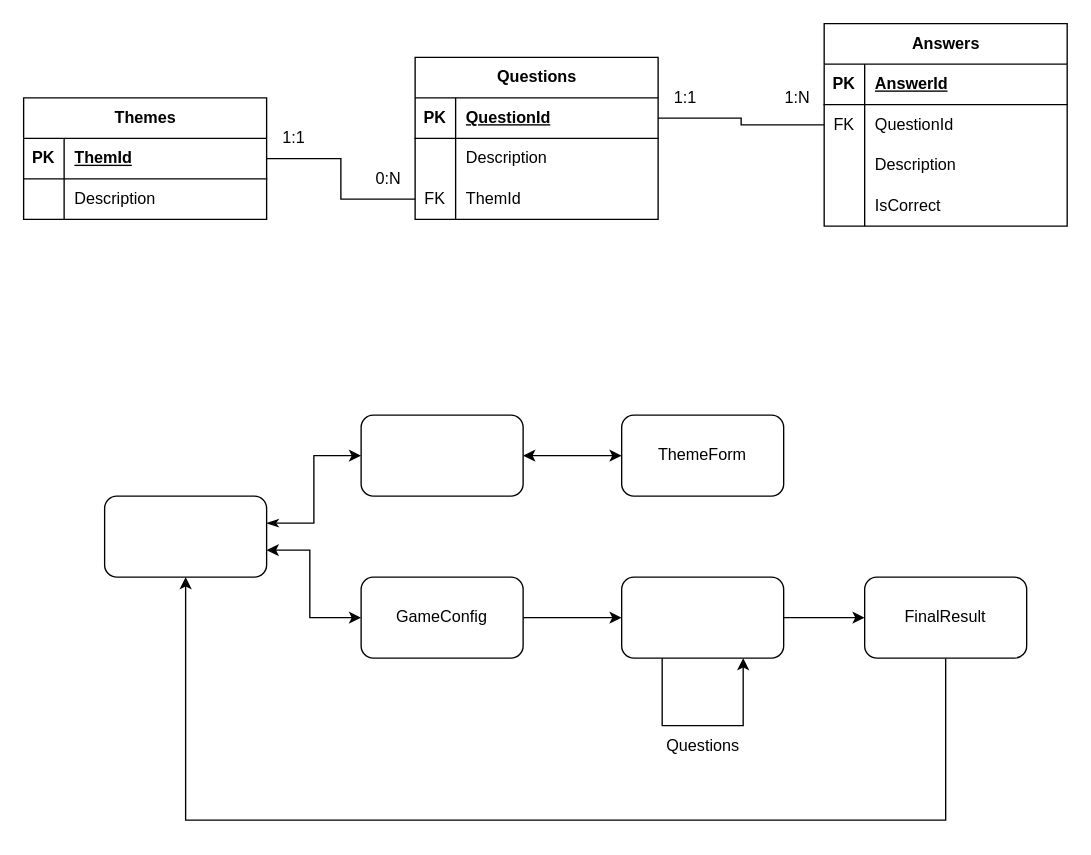
This 1091x855 diagram has some shape labels left out. The centre of each missing label's shape, as x and y in pixels:
Game: the point at 702,617
Home: the point at 185,536
QuestionForm: the point at 441,455
